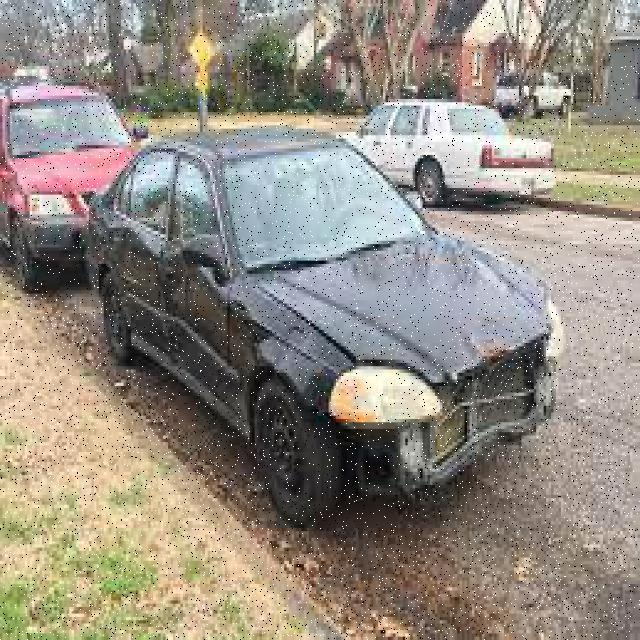doorouter-dent: (106, 214, 168, 350), (168, 254, 232, 382)
front-bumper-dent: (356, 369, 596, 484)
